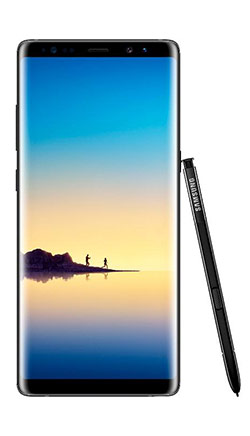Handphone: (12, 34, 187, 400)
